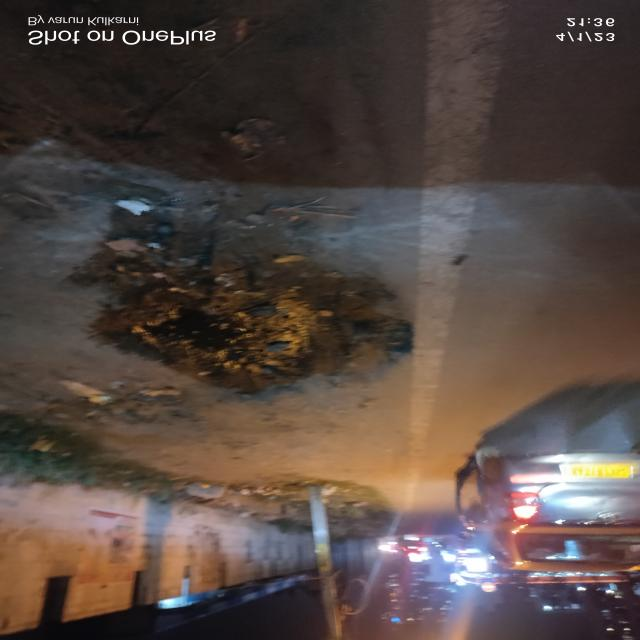Puddle pothole: (51, 198, 424, 394)
